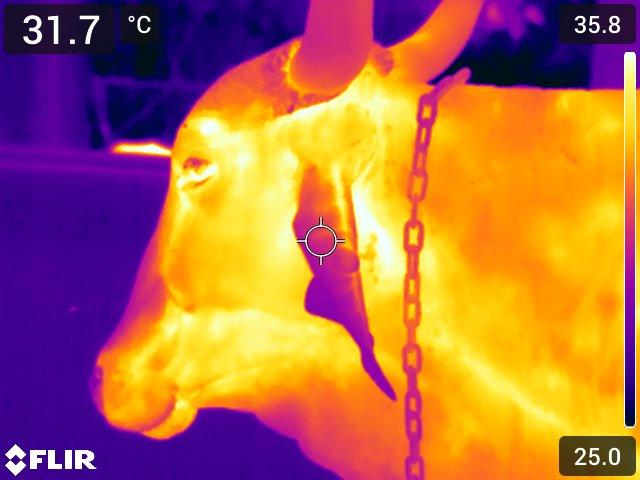ear: (287, 163, 399, 402)
eyes: (174, 144, 225, 194)
